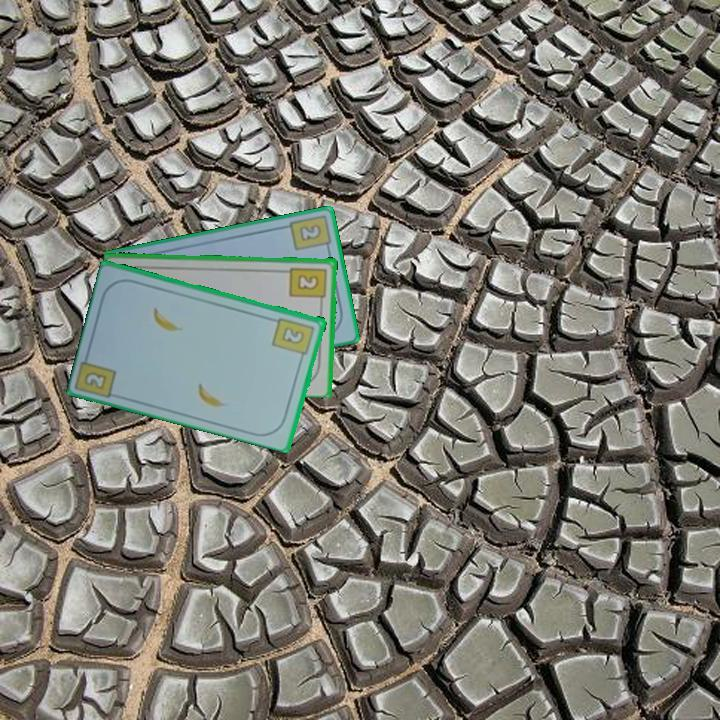2b: (270, 314, 318, 363), (286, 212, 333, 255), (287, 263, 330, 306), (81, 368, 110, 392)
